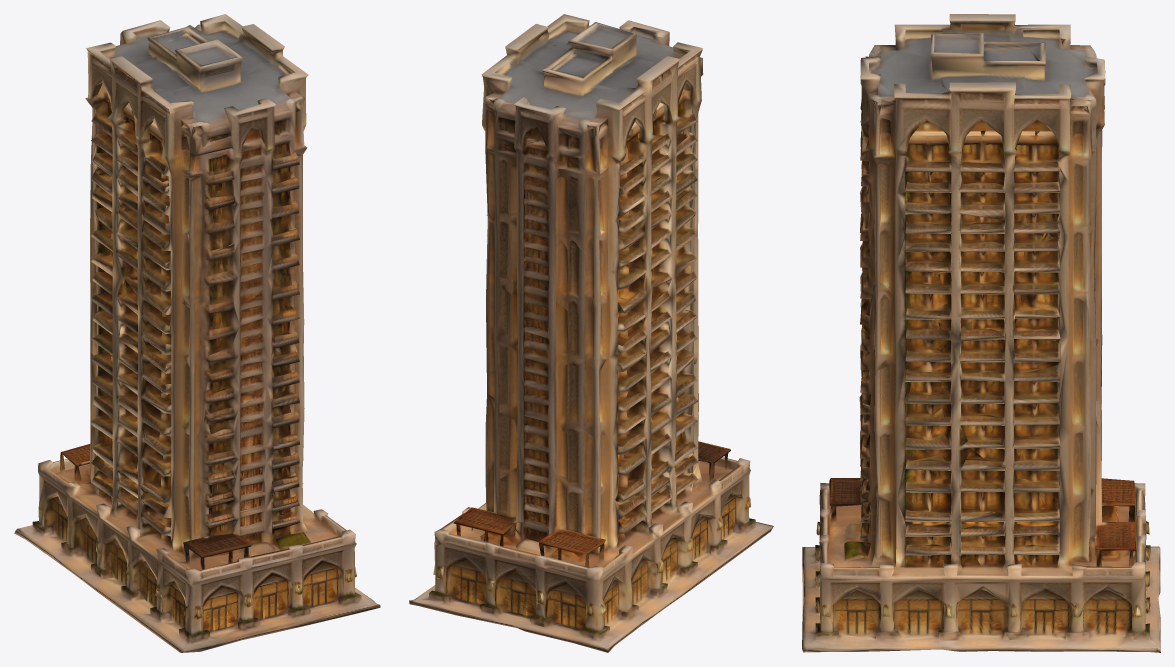
Rendered from beige_tower.glb.
3 renders of one model, left to right at view 1: azimuth 30°, elevation 25°; view 2: azimuth 150°, elevation 25°; view 3: azimuth 270°, elevation 25°, orthographic. The views are drawn at different scales.
Parts seen in each view (by area): view 1: tripo_node_41ccccfa-cfd4-4be9-8665-9bd68a643b2a; view 2: tripo_node_41ccccfa-cfd4-4be9-8665-9bd68a643b2a; view 3: tripo_node_41ccccfa-cfd4-4be9-8665-9bd68a643b2a.
Part boxes in pixels (x1,y1,x2,y2): tripo_node_41ccccfa-cfd4-4be9-8665-9bd68a643b2a: (14,14,380,652); tripo_node_41ccccfa-cfd4-4be9-8665-9bd68a643b2a: (409,14,773,652); tripo_node_41ccccfa-cfd4-4be9-8665-9bd68a643b2a: (802,14,1160,652).
Bounding box in the file's own units: 0.398 × 1 × 0.5822.
Materials: 1 (1 with a texture image).
